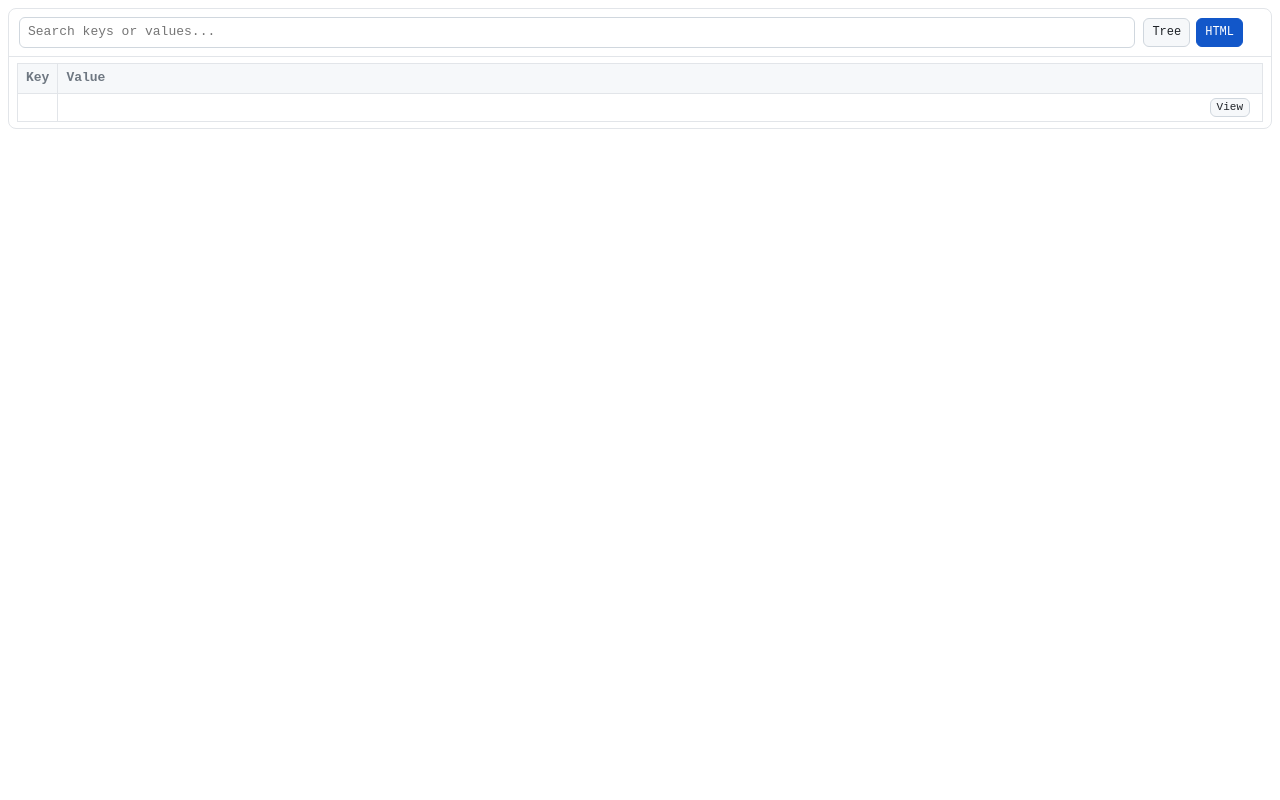
Scenario: JsonViewer - HTML view overflow popup › shows nested values as pretty JSON in the popup
Click the button with aria-label "View full value of meta" at [1230, 107], box [1210,98,1250,117]
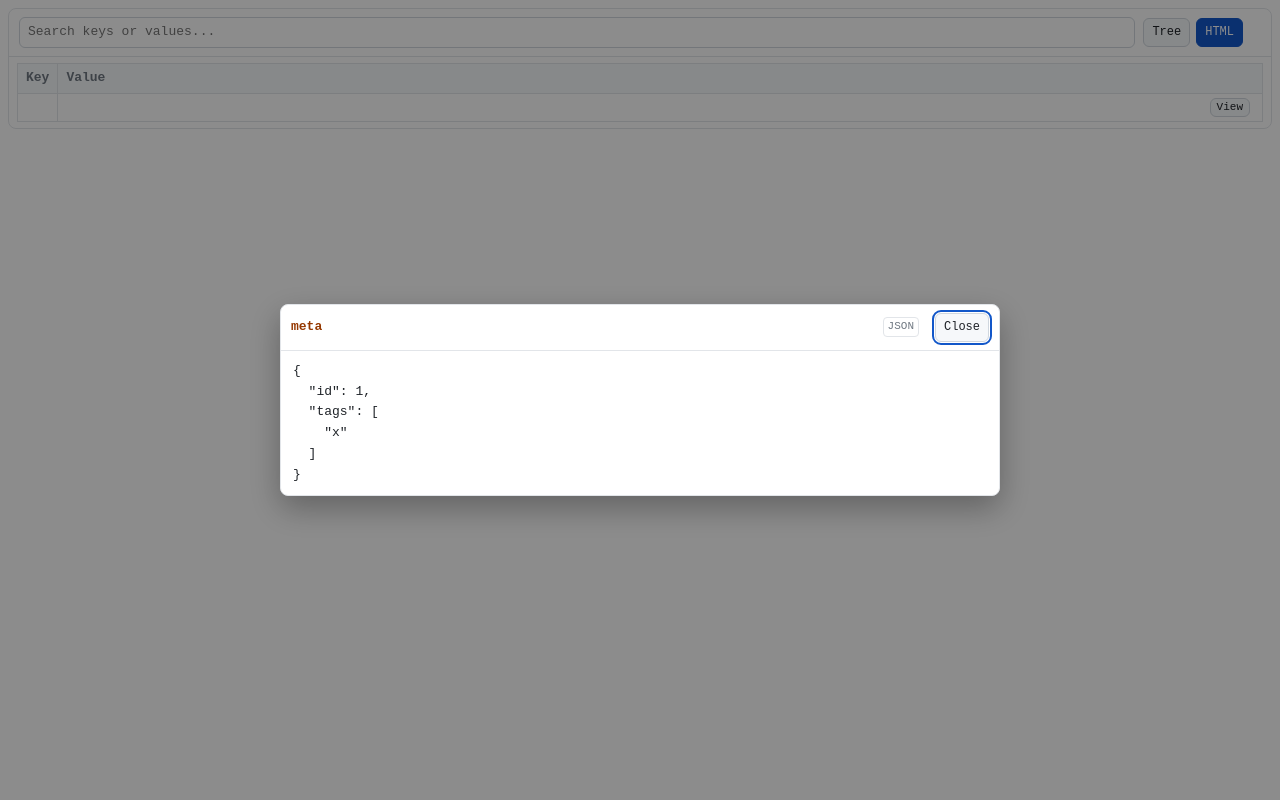
Result: the dialog named "Value of meta" shows "JSON" at [888,320,914,332]
Press Escape
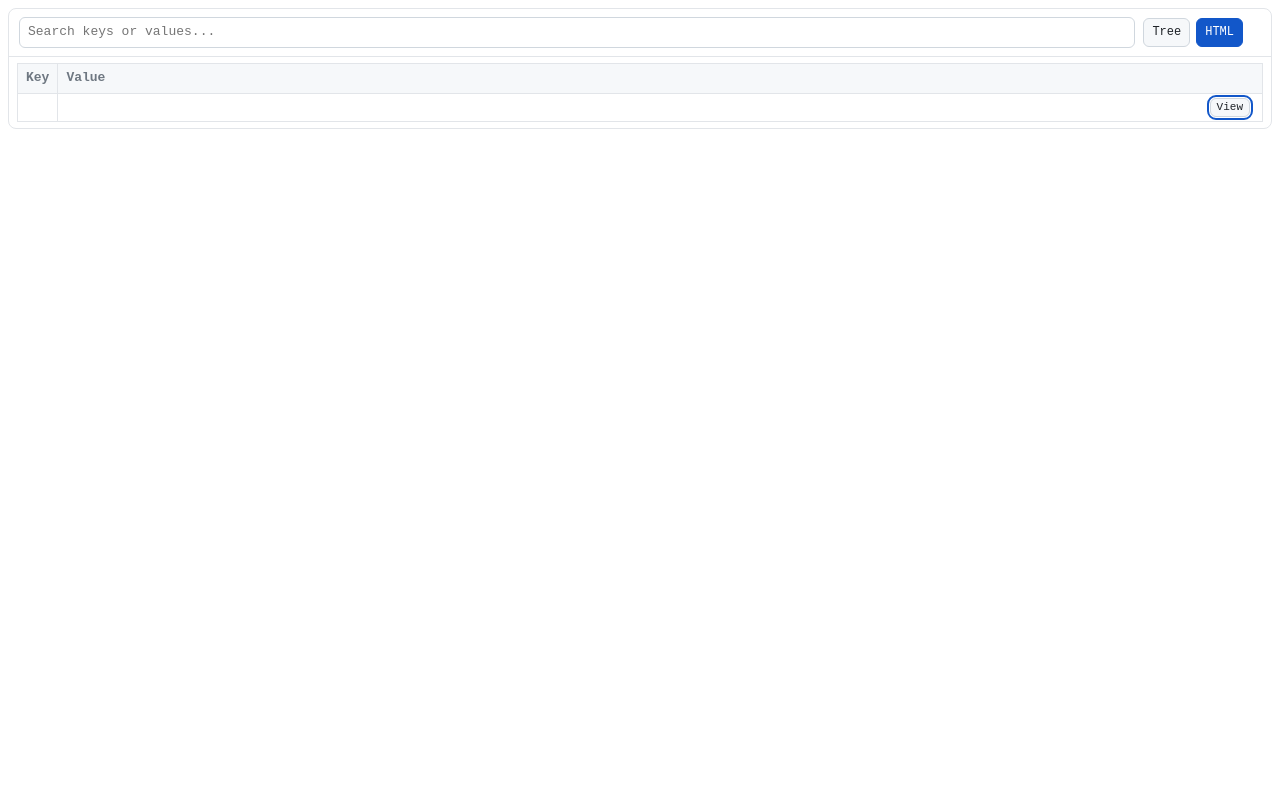
Result: the dialog is gone
